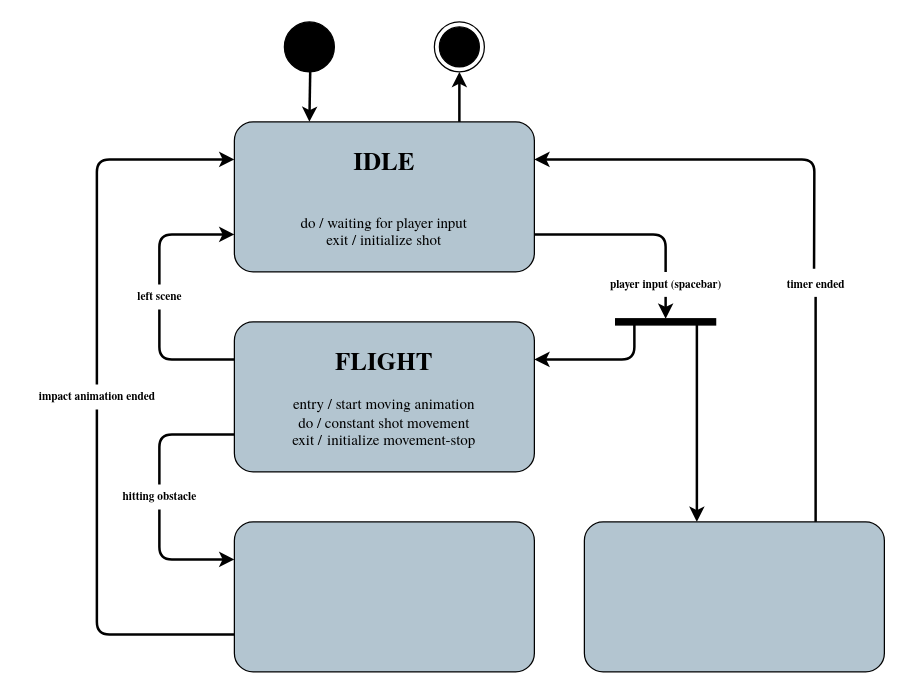
This 906x694 diagram has some shape labels left out. Here are the shapes that lost their labels. From the top down, the centre of each, then its label:
pixel 383 596: IMPACT entry / reduce obstacle live do / impact animation
pixel 733 596: COOLDOWN entry / start Timer do / waiting for Timer
